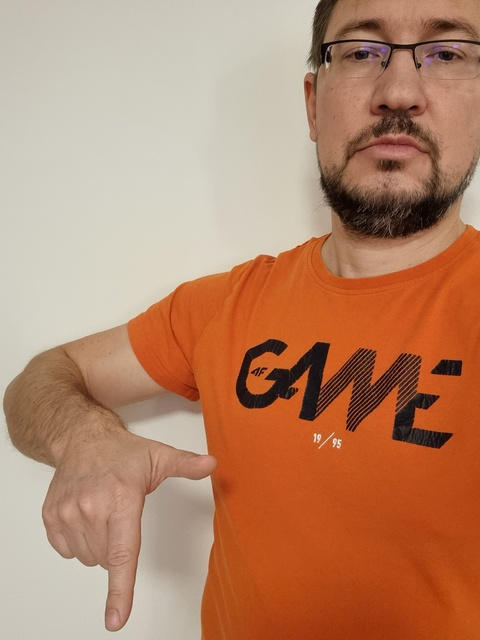GestDown: (43, 439, 215, 630)
